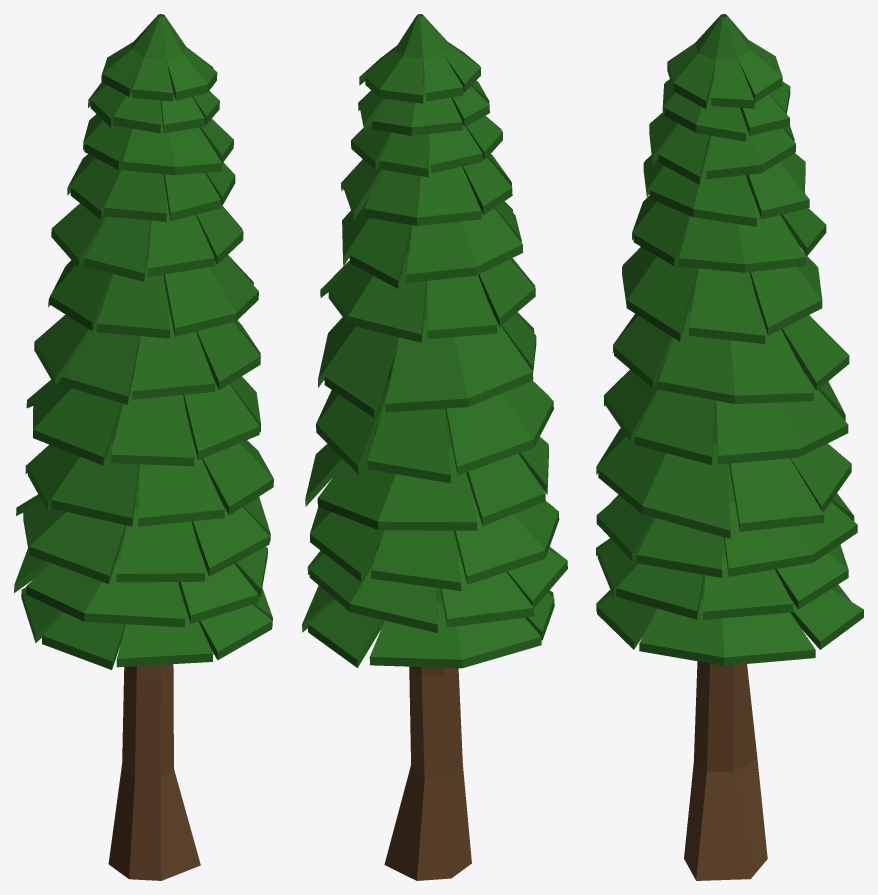
The model's file is pine_tree_1.fbx.
The picture shows the model from 3 angles, left to right: view 1: azimuth 30°, elevation 25°; view 2: azimuth 150°, elevation 25°; view 3: azimuth 270°, elevation 25°; orthographic projection.
Visible parts, largest first — view 1: Circle; view 2: Circle; view 3: Circle.
Boxes of the visible parts, x1,y1,x2,y2 form: Circle: (14,14,273,880); Circle: (302,14,567,880); Circle: (596,14,863,880).
Size of the model in its own units: 210 by 735 by 209.
2 materials, 1 textured.
